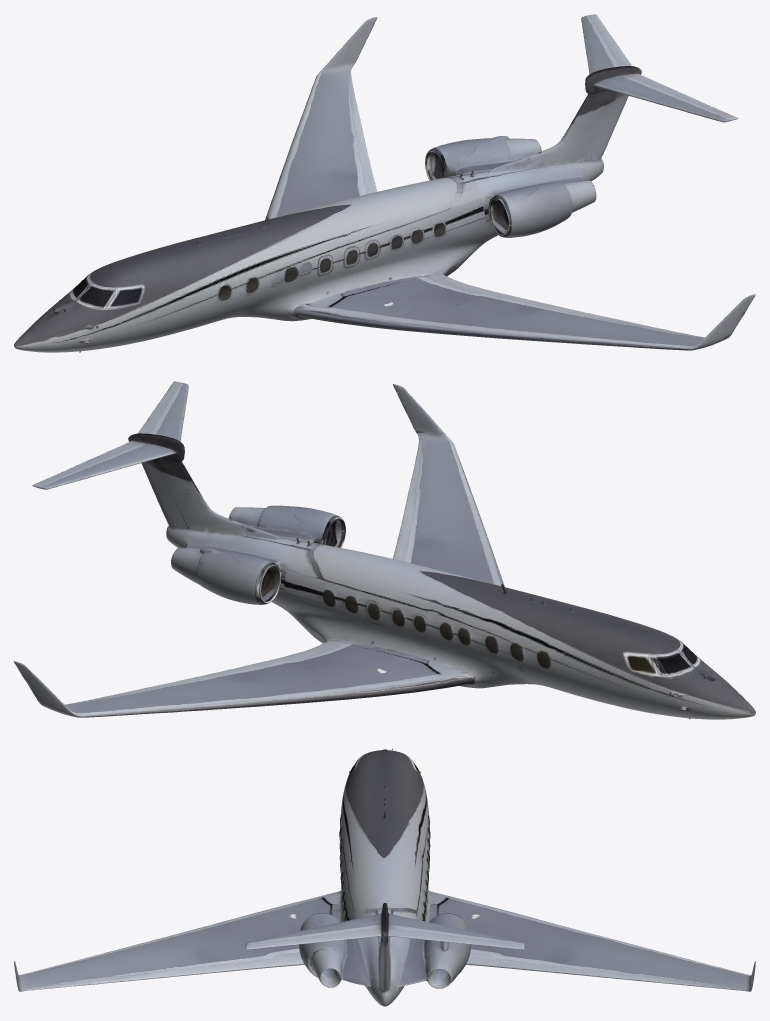
The model's file is airplane.glb.
The picture shows the model from 3 angles, top to bottom: view 1: azimuth 30°, elevation 25°; view 2: azimuth 150°, elevation 25°; view 3: azimuth 270°, elevation 25°; orthographic projection. The views are drawn at different scales.
Size of the model in its own units: 1.88 by 0.4575 by 1.89.
1 material, 1 textured.
